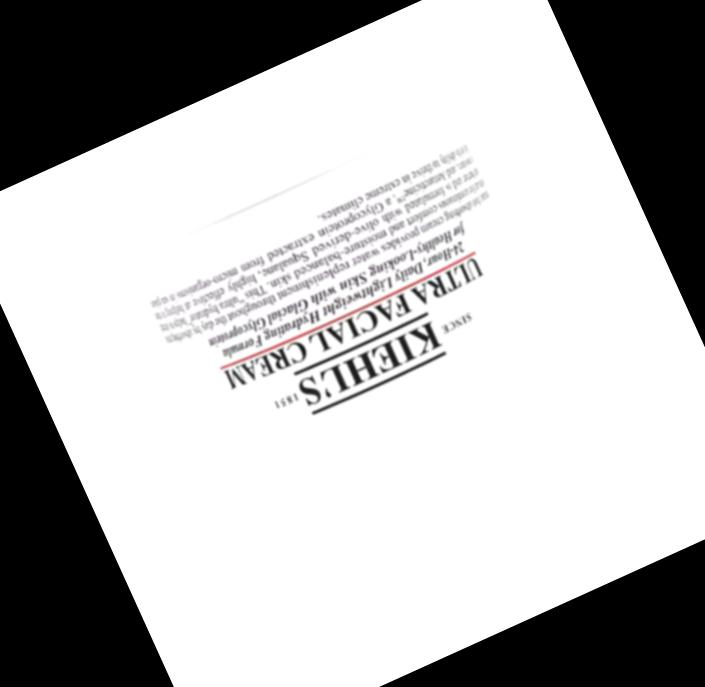cosmetic: (126, 108, 587, 538)
